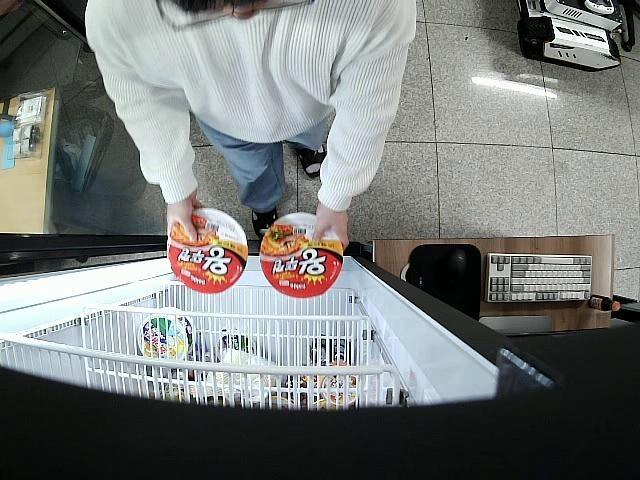10_wangTtukkeong: (263, 212, 344, 297), (168, 210, 248, 295)
